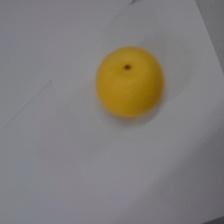yellow: (95, 44, 164, 118)
